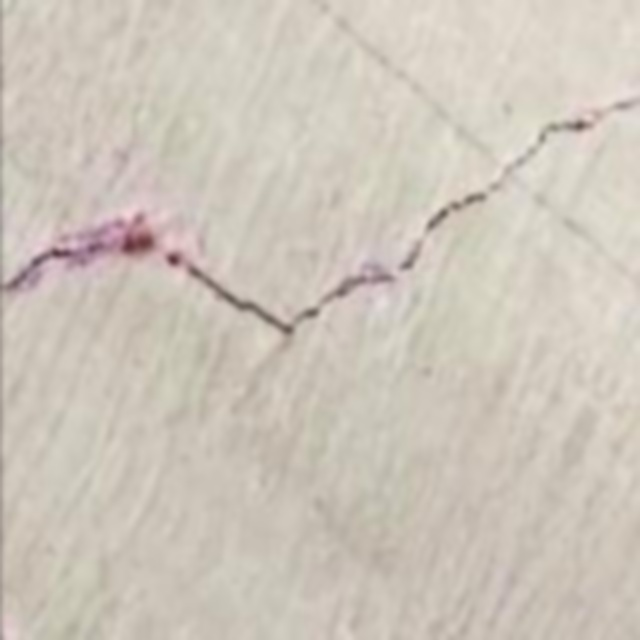SurfaceCrack: (0, 68, 636, 374)
